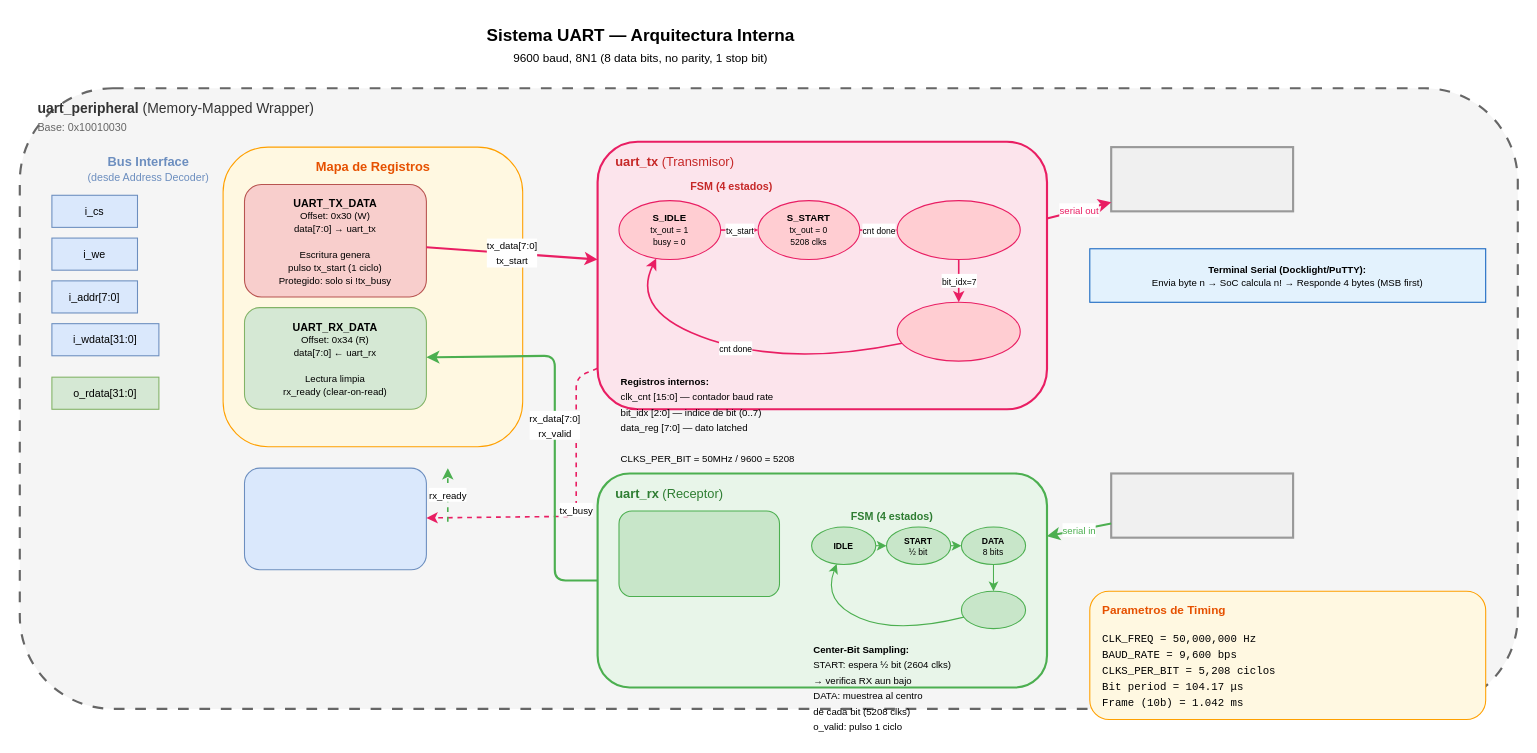
This 1537x753 diagram has some shape labels left out. The centre of each missing label's shape, as x and y in pixels:
i_uart_rx PIN_AK2 (GPIO[1]) ← Terminal Serial: (x=1202, y=505)
o_uart_tx PIN_W15 (GPIO[0]) → Terminal Serial: (x=1202, y=179)
S_DATA tx_out = data[idx] 8 bits × 5208 clks: (x=958, y=229)
S_STOP tx_out = 1 5208 clks: (x=958, y=331)
Sincronizador Double Flip-Flop (anti-metaestabilidad) rx_sync1 → rx_sync2: (x=698, y=553)
STOP valid!: (x=993, y=609)
UART_STATUS Offset: 0x38 (R) bit 0: tx_busy bit 1: rx_ready bits [31:2]: 0: (x=334, y=518)
